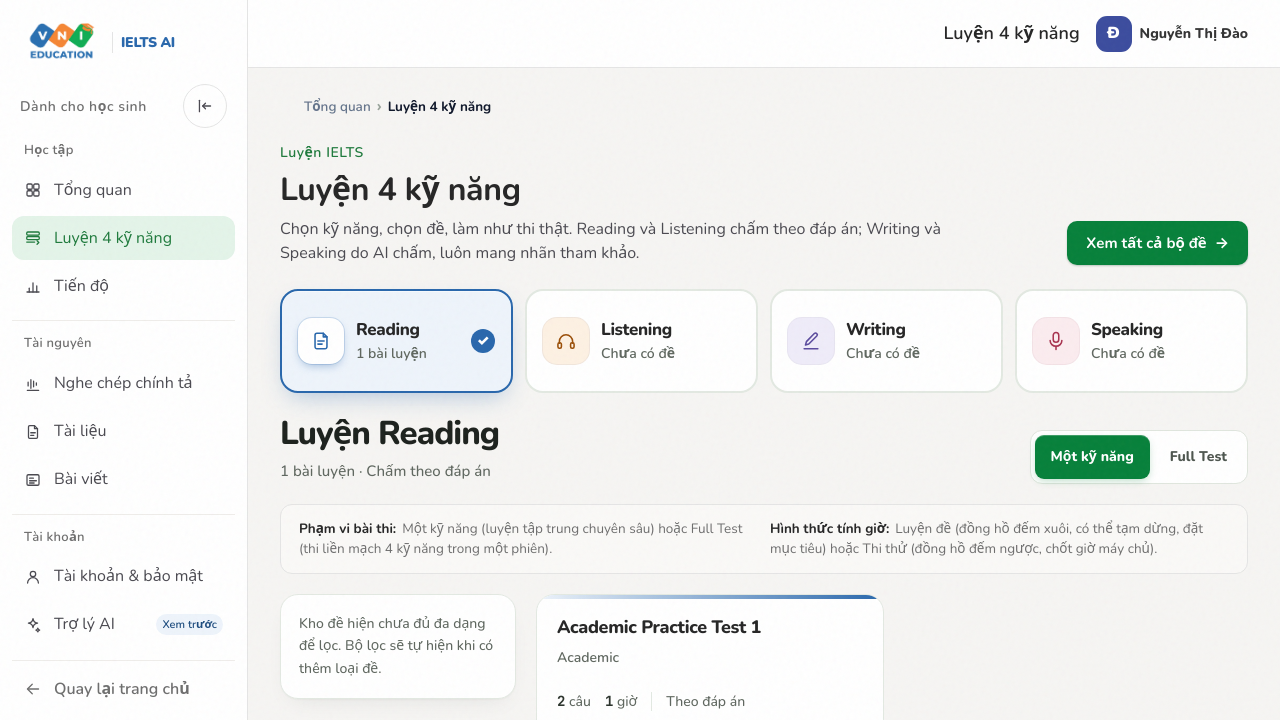
Test: says so when an exam cannot be sat as a full test
The image size is (1280, 720).
Click the button with aria-label "Thi thử full": click(1198, 456) [1154,434,1243,478]
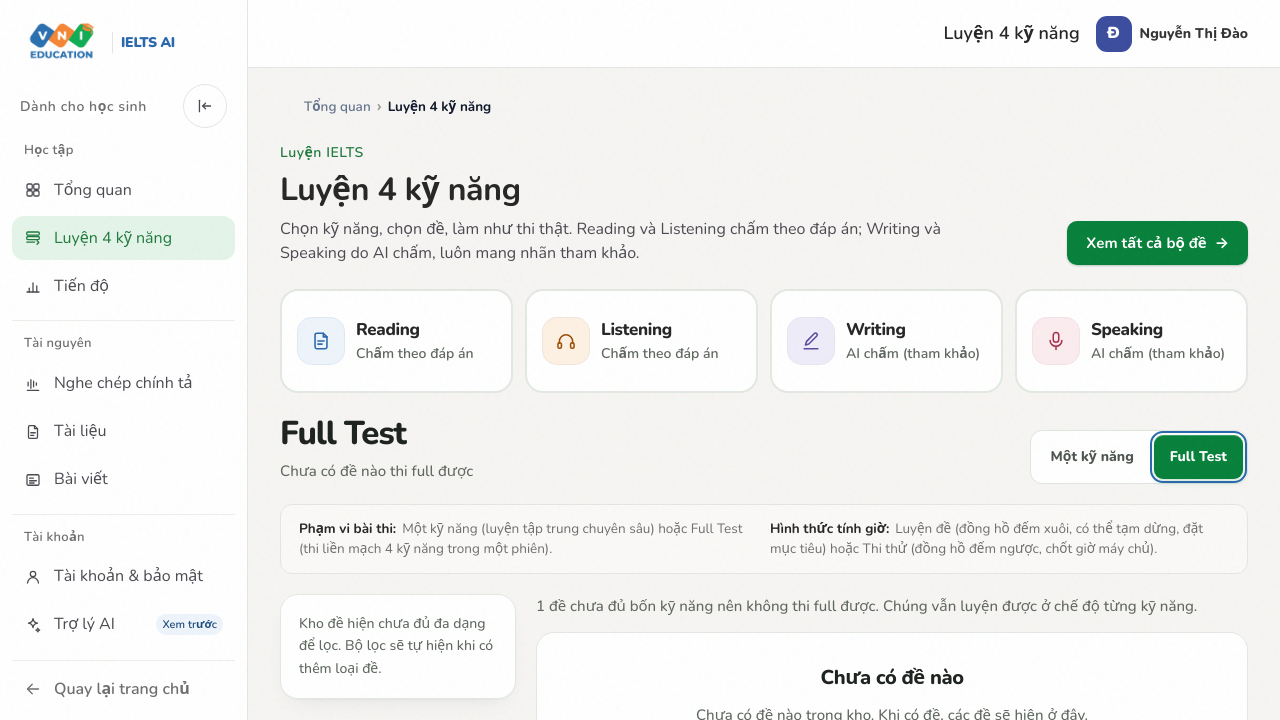
Expected: the text "1 đề chưa đủ bốn kỹ năng nên không thi full được" is shown, [536,594,1248,618]
Expected: the text "vẫn luyện được ở chế độ từng kỹ năng" is shown, [545,596,1197,616]
